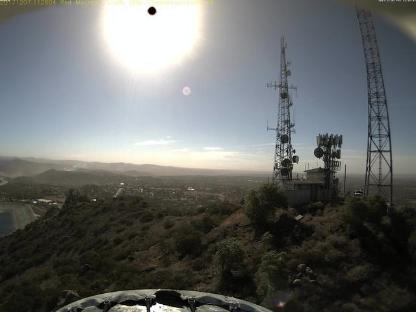smoke: (58, 159, 93, 173)
